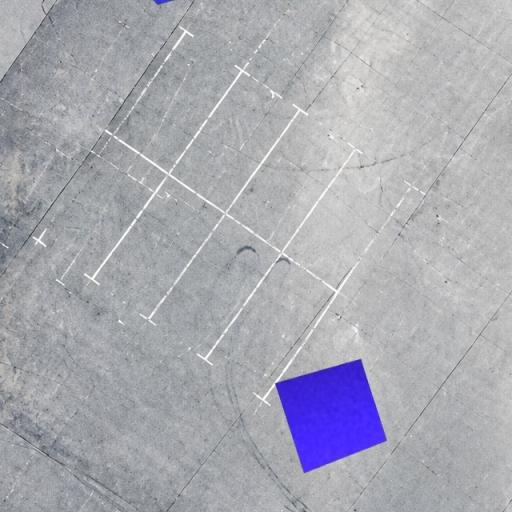BLUE_SQUARE: (274, 358, 388, 474)
